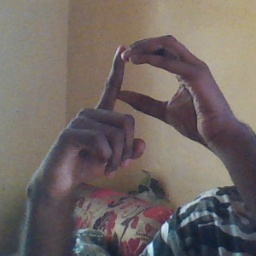P: (56, 32, 217, 173)
